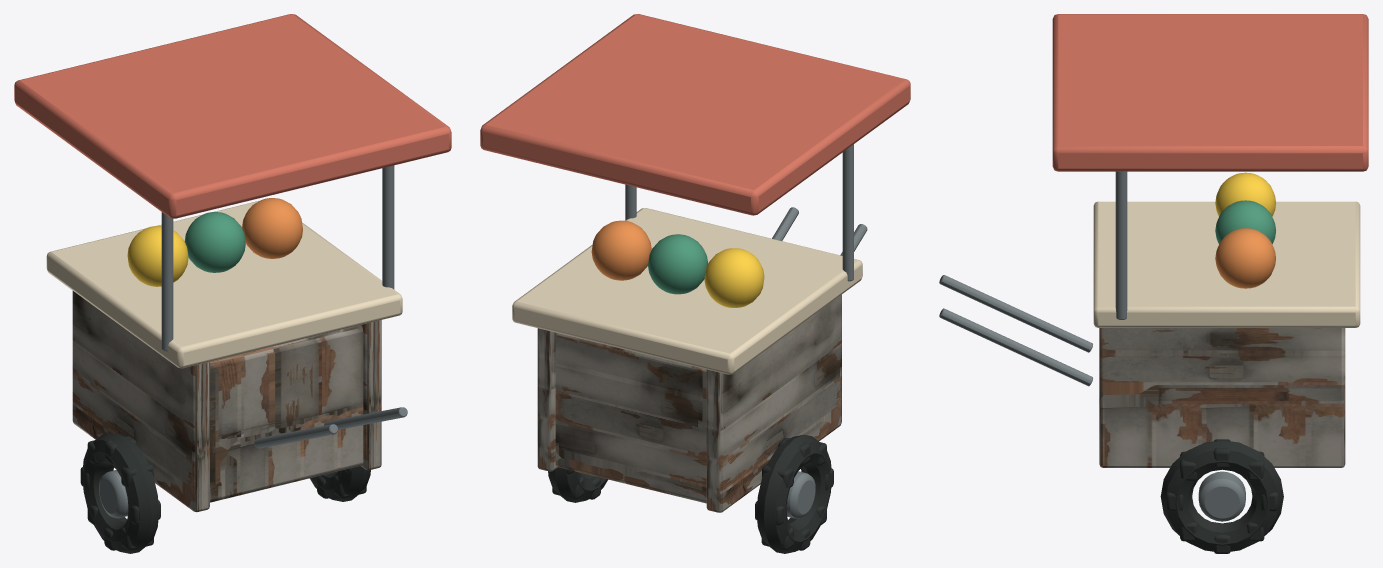
Rendered from cart.glb.
3 views of the same model, side by side, from view 1: azimuth 30°, elevation 25°; view 2: azimuth 150°, elevation 25°; view 3: azimuth 270°, elevation 25° (orthographic).
Parts seen in each view (by area): view 1: canopy, counter, wood_slat, side_rail, tire, produce.001, produce.002, side_rail.001, produce, canopy_post, canopy_post.001, tire.001 (+3 smaller); view 2: canopy, counter, wood_slat.003, side_rail, tire, produce, produce.001, produce.002, side_rail.001, canopy_post, tire.001, hub; view 3: canopy, side_rail.001, counter, tire.001, produce.002, hub.001, canopy_post.001, handle, handle.001, produce.001, produce.
Part boxes in pixels (<box>): canopy: <box>14,14,451,218</box>; counter: <box>46,200,402,368</box>; wood_slat: <box>210,325,363,502</box>; side_rail: <box>72,291,209,512</box>; tire: <box>83,433,158,553</box>; produce.001: <box>184,212,245,272</box>; produce.002: <box>242,198,302,258</box>; side_rail.001: <box>361,320,381,470</box>; produce: <box>127,226,188,286</box>; canopy_post: <box>161,212,173,351</box>; canopy_post.001: <box>382,165,394,289</box>; tire.001: <box>310,466,370,501</box>; canopy: <box>480,14,910,215</box>; counter: <box>512,208,862,374</box>; wood_slat.003: <box>555,332,706,503</box>; side_rail: <box>706,294,841,512</box>; tire: <box>756,434,831,553</box>; produce: <box>704,248,764,307</box>; produce.001: <box>648,234,707,294</box>; produce.002: <box>591,220,651,280</box>; side_rail.001: <box>537,328,557,471</box>; canopy_post: <box>842,144,853,281</box>; tire.001: <box>548,467,607,502</box>; hub: <box>787,471,815,518</box>; canopy: <box>1052,14,1368,171</box>; side_rail.001: <box>1099,328,1345,467</box>; counter: <box>1093,201,1360,327</box>; tire.001: <box>1160,440,1283,551</box>; produce.002: <box>1215,228,1275,288</box>; hub.001: <box>1198,471,1245,521</box>; canopy_post.001: <box>1115,171,1127,319</box>; handle: <box>939,275,1092,352</box>; handle.001: <box>939,308,1092,386</box>; produce.001: <box>1215,200,1275,244</box>; produce: <box>1215,172,1275,216</box>.
Bounding box in the file's own units: 1.38 × 1.98 × 1.83.
8 materials, 1 textured.
